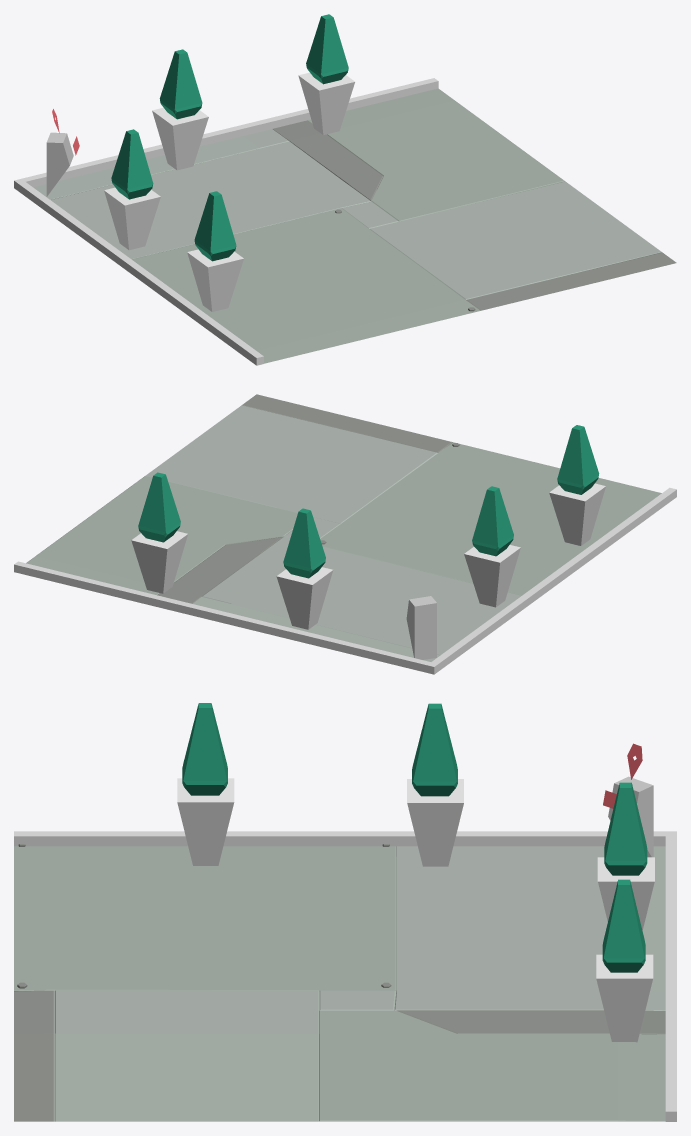
3 views of the same model, one above another, from view 1: azimuth 30°, elevation 25°; view 2: azimuth 150°, elevation 25°; view 3: azimuth 270°, elevation 25° (orthographic). The views are drawn at different scales.
Visible parts, largest first — view 1: Scifi_Panel_04_Plaza014_group4.025, Cube.1038_Cube.1162, base_singlePot01.023_base_singlePot01.011, base_singlePot01.022_base_singlePot01.010, base_singlePot01.020_base_singlePot01.008, base_singlePot01.021_base_singlePot01.009, panel.006_panel.010; view 2: Scifi_Panel_04_Plaza014_group4.025, Cube.1038_Cube.1162, base_singlePot01.023_base_singlePot01.011, base_singlePot01.022_base_singlePot01.010, base_singlePot01.021_base_singlePot01.009, base_singlePot01.020_base_singlePot01.008, panel.006_panel.010; view 3: Scifi_Panel_04_Plaza014_group4.025, Cube.1038_Cube.1162, base_singlePot01.021_base_singlePot01.009, base_singlePot01.020_base_singlePot01.008, base_singlePot01.022_base_singlePot01.010, base_singlePot01.023_base_singlePot01.011, panel.006_panel.010.
Part boxes in pixels (box(x1,y1,x2,y2)): Scifi_Panel_04_Plaza014_group4.025: box(33, 88, 676, 363); Cube.1038_Cube.1162: box(14, 78, 438, 365); base_singlePot01.023_base_singlePot01.011: box(152, 49, 208, 170); base_singlePot01.022_base_singlePot01.010: box(298, 14, 354, 134); base_singlePot01.020_base_singlePot01.008: box(104, 129, 160, 250); base_singlePot01.021_base_singlePot01.009: box(187, 191, 243, 311); panel.006_panel.010: box(46, 109, 79, 196); Scifi_Panel_04_Plaza014_group4.025: box(26, 394, 661, 661); Cube.1038_Cube.1162: box(14, 487, 676, 674); base_singlePot01.023_base_singlePot01.011: box(276, 508, 333, 629); base_singlePot01.022_base_singlePot01.010: box(131, 472, 187, 593); base_singlePot01.021_base_singlePot01.009: box(549, 425, 605, 545); base_singlePot01.020_base_singlePot01.008: box(464, 486, 520, 607); panel.006_panel.010: box(406, 596, 436, 659); Scifi_Panel_04_Plaza014_group4.025: box(14, 844, 665, 1121); Cube.1038_Cube.1162: box(14, 831, 676, 1121); base_singlePot01.021_base_singlePot01.009: box(177, 703, 234, 865); base_singlePot01.020_base_singlePot01.008: box(407, 703, 463, 866); base_singlePot01.022_base_singlePot01.010: box(596, 879, 653, 1042); base_singlePot01.023_base_singlePot01.011: box(597, 782, 654, 930); panel.006_panel.010: box(603, 743, 653, 857).
Size of the model in its own units: 10 by 2.59 by 10.
